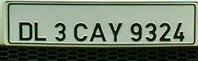2: (158, 22, 172, 42)
3: (143, 22, 158, 42), (53, 22, 66, 42)
4: (172, 22, 186, 42)
9: (129, 22, 144, 42)
A: (89, 22, 107, 42)
C: (73, 22, 89, 42)
D: (18, 22, 33, 41)
L: (33, 22, 46, 41)
Y: (107, 22, 123, 43)
